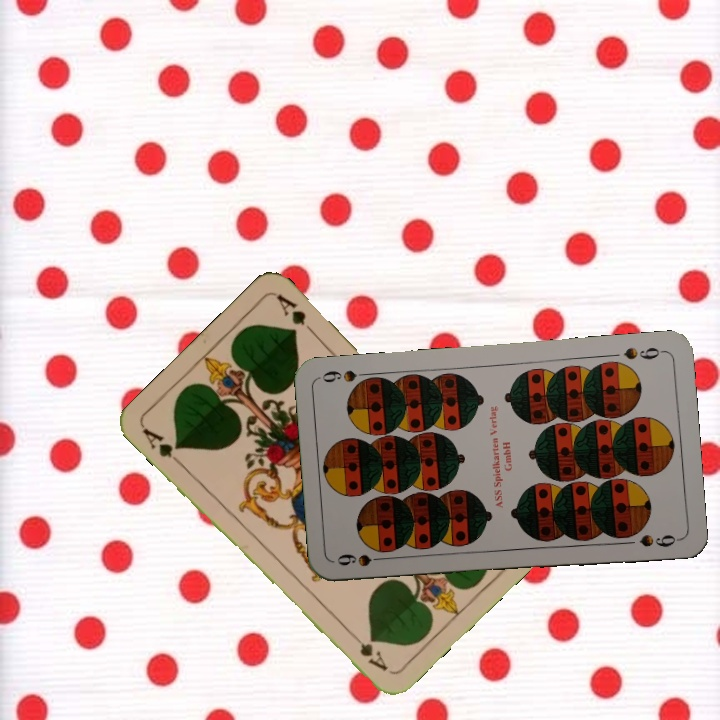GA: (138, 424, 186, 469)
S9: (333, 549, 392, 569), (620, 343, 667, 362)
